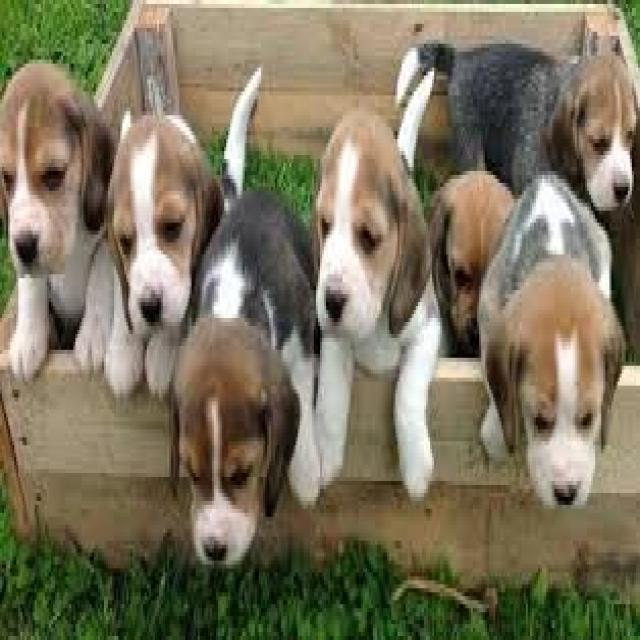Dog: (0, 49, 116, 382), (485, 264, 630, 524), (110, 62, 222, 342), (312, 99, 436, 348), (174, 312, 287, 580), (431, 168, 520, 340), (560, 44, 640, 218)
